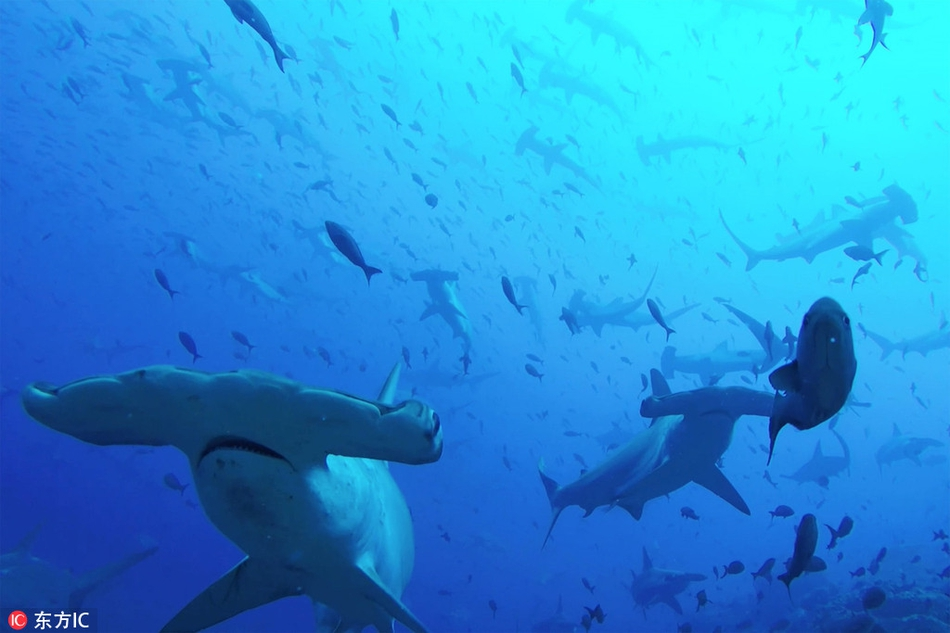shark: (18, 354, 457, 626), (718, 181, 937, 289), (408, 264, 503, 393), (506, 114, 614, 212), (545, 1, 670, 77), (626, 130, 766, 172)
